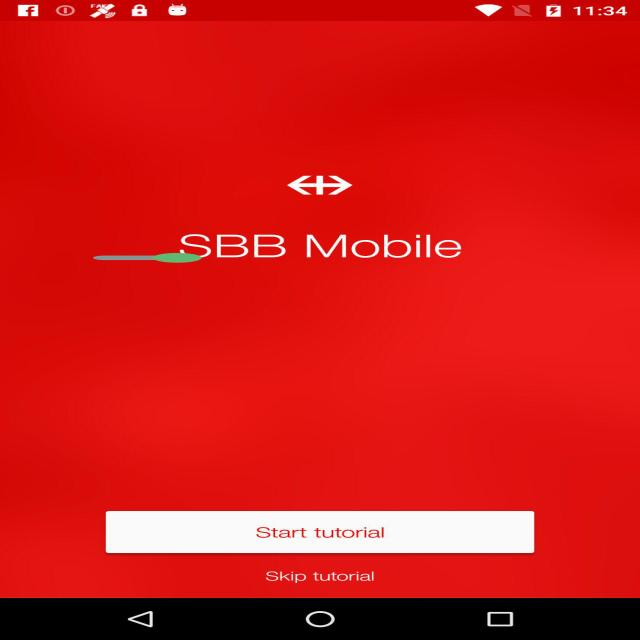social proof: (93, 247, 202, 269)
